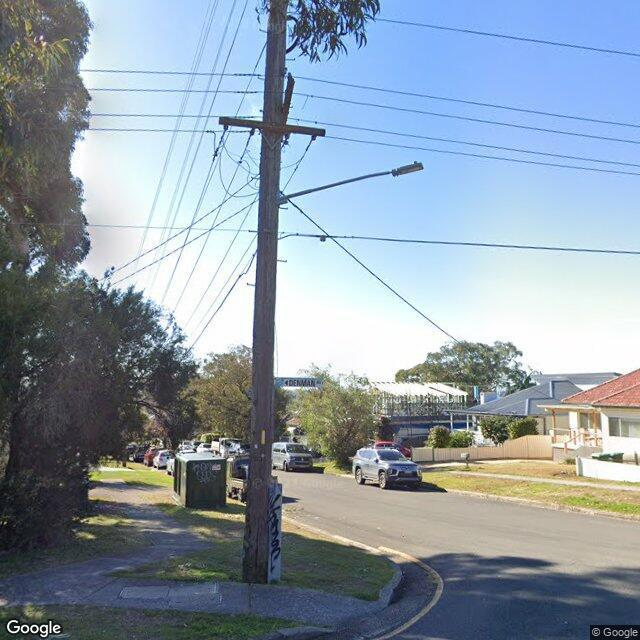crossarm: (219, 115, 326, 138), (281, 76, 294, 126)
streetlight: (279, 160, 425, 205)
timber-pole: (240, 1, 289, 583)
